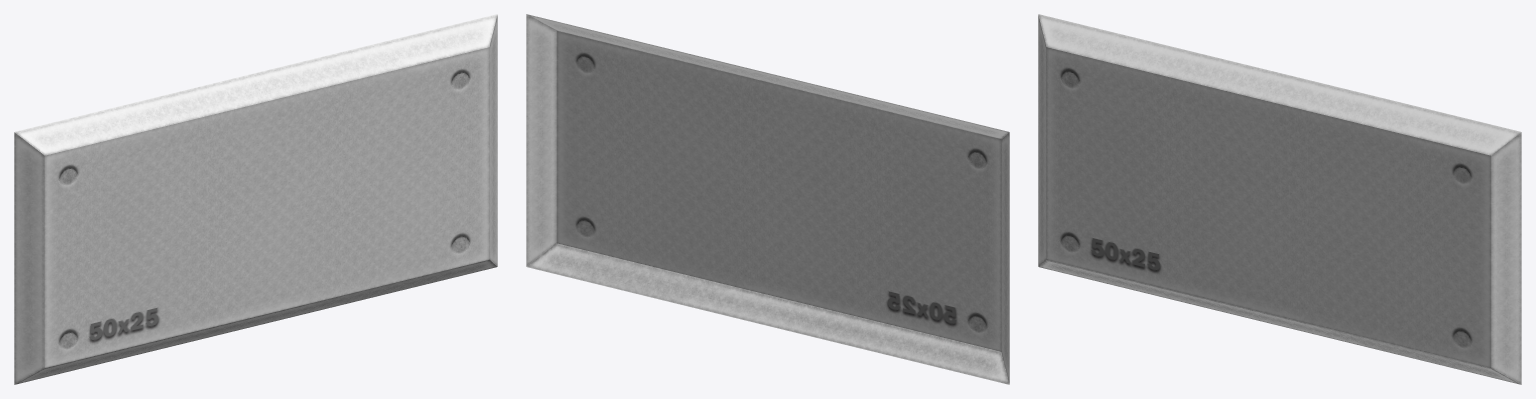
The model's file is WallHalf.FBX.
3 renders of one model, left to right at view 1: azimuth 30°, elevation 25°; view 2: azimuth 150°, elevation 25°; view 3: azimuth 330°, elevation 25°, orthographic.
Parts seen in each view (by area): view 1: WallHalf; view 2: WallHalf; view 3: WallHalf.
Part boxes in pixels (x1=…): WallHalf: x1=14, y1=14, x2=497, y2=384; WallHalf: x1=526, y1=14, x2=1009, y2=384; WallHalf: x1=1038, y1=14, x2=1521, y2=384.
Size of the model in its own units: 50 by 25 by 2.
1 material, 1 textured.
